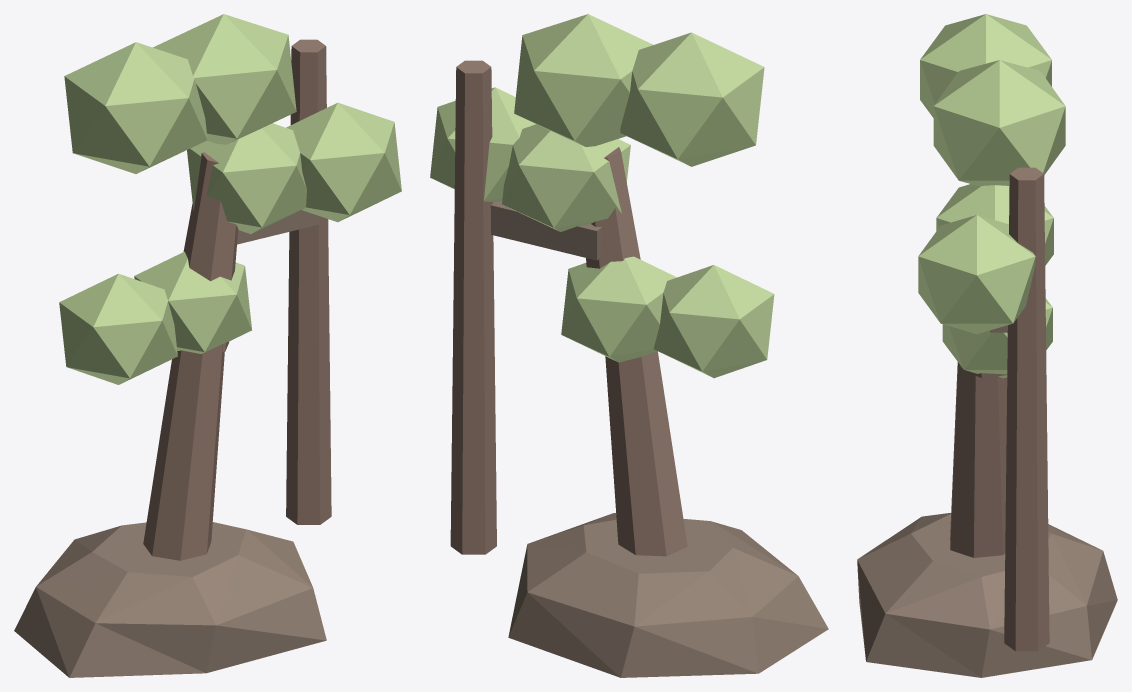
The model's file is world_tree_sapling.fbx.
3 renders of one model, left to right at view 1: azimuth 30°, elevation 25°; view 2: azimuth 150°, elevation 25°; view 3: azimuth 270°, elevation 25°, orthographic. The views are drawn at different scales.
Visible parts, largest first — view 1: world_tree_sapling_mesh; view 2: world_tree_sapling_mesh; view 3: world_tree_sapling_mesh.
Part boxes in pixels (left/top/right/bottom): world_tree_sapling_mesh: left=14, top=14, right=401, bottom=677; world_tree_sapling_mesh: left=430, top=14, right=828, bottom=677; world_tree_sapling_mesh: left=857, top=14, right=1117, bottom=677.
Bounding box in the file's own units: 0.4495 × 0.71 × 0.287.
